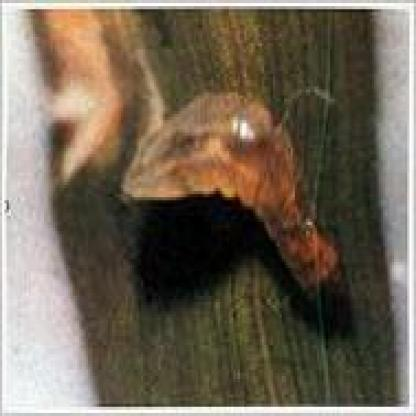whorl-maggot: (120, 91, 344, 305)
